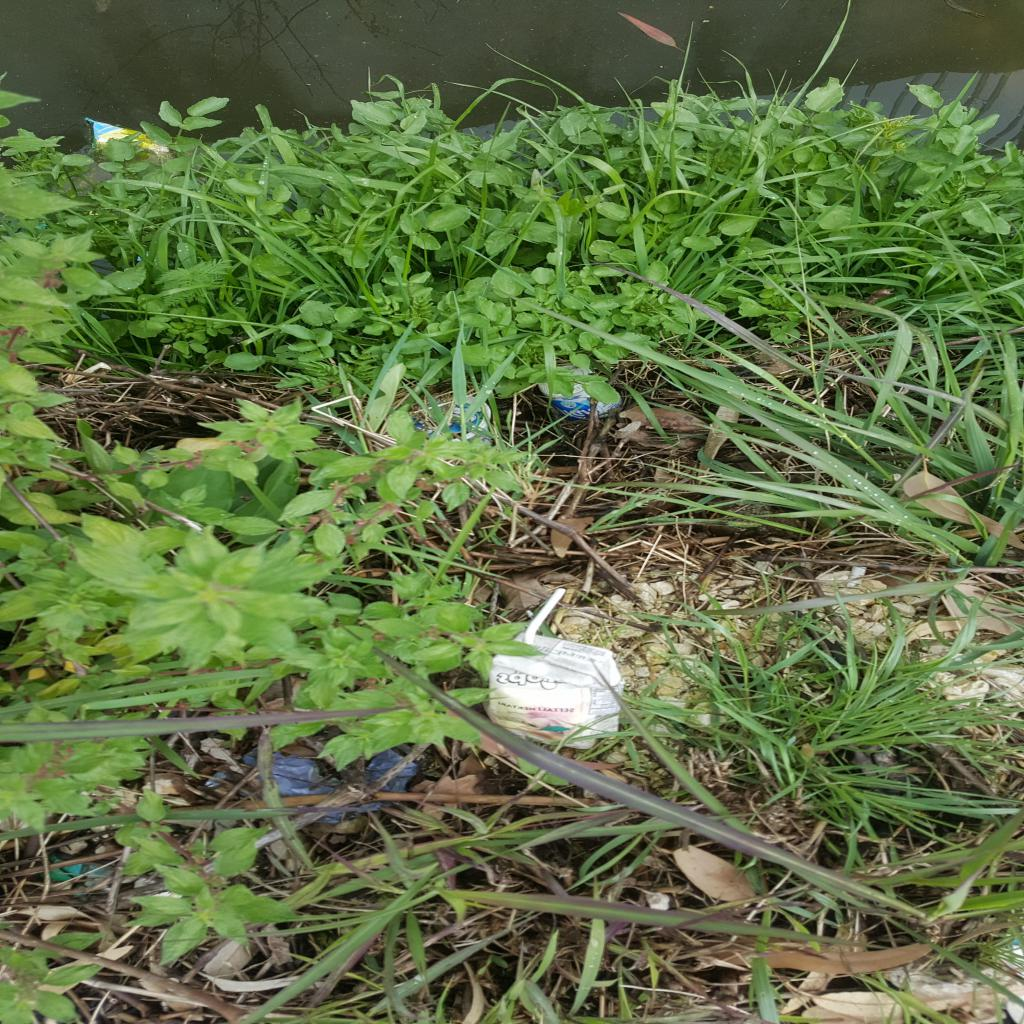Drink carton: (483, 631, 625, 749)
Other plastic: (82, 118, 176, 179)
Other plastic bottle: (414, 396, 492, 444)
Other plastic container: (538, 366, 624, 420)
Plastic bottle cap: (536, 366, 596, 396)
Plastic film: (240, 746, 420, 822)
Plastic straw: (523, 588, 566, 644)
